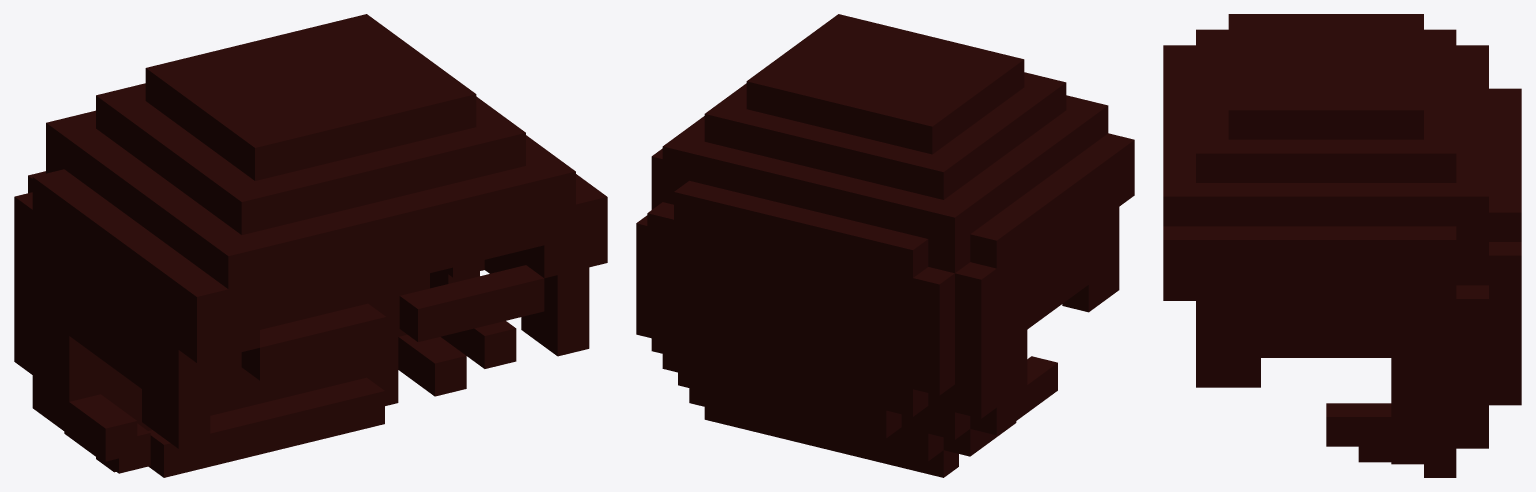
File: Union_3.fbx
3 renders of one model, left to right at view 1: azimuth 30°, elevation 25°; view 2: azimuth 150°, elevation 25°; view 3: azimuth 270°, elevation 25°, orthographic. The views are drawn at different scales.
Parts seen in each view (by area): view 1: Union_3; view 2: Union_3; view 3: Union_3.
Boxes of the visible parts, x1=… form: Union_3: x1=14, y1=14, x2=607, y2=477; Union_3: x1=636, y1=14, x2=1134, y2=477; Union_3: x1=1163, y1=14, x2=1521, y2=477.
Size of the model in its own units: 13 by 12 by 11.
1 material, 1 textured.
